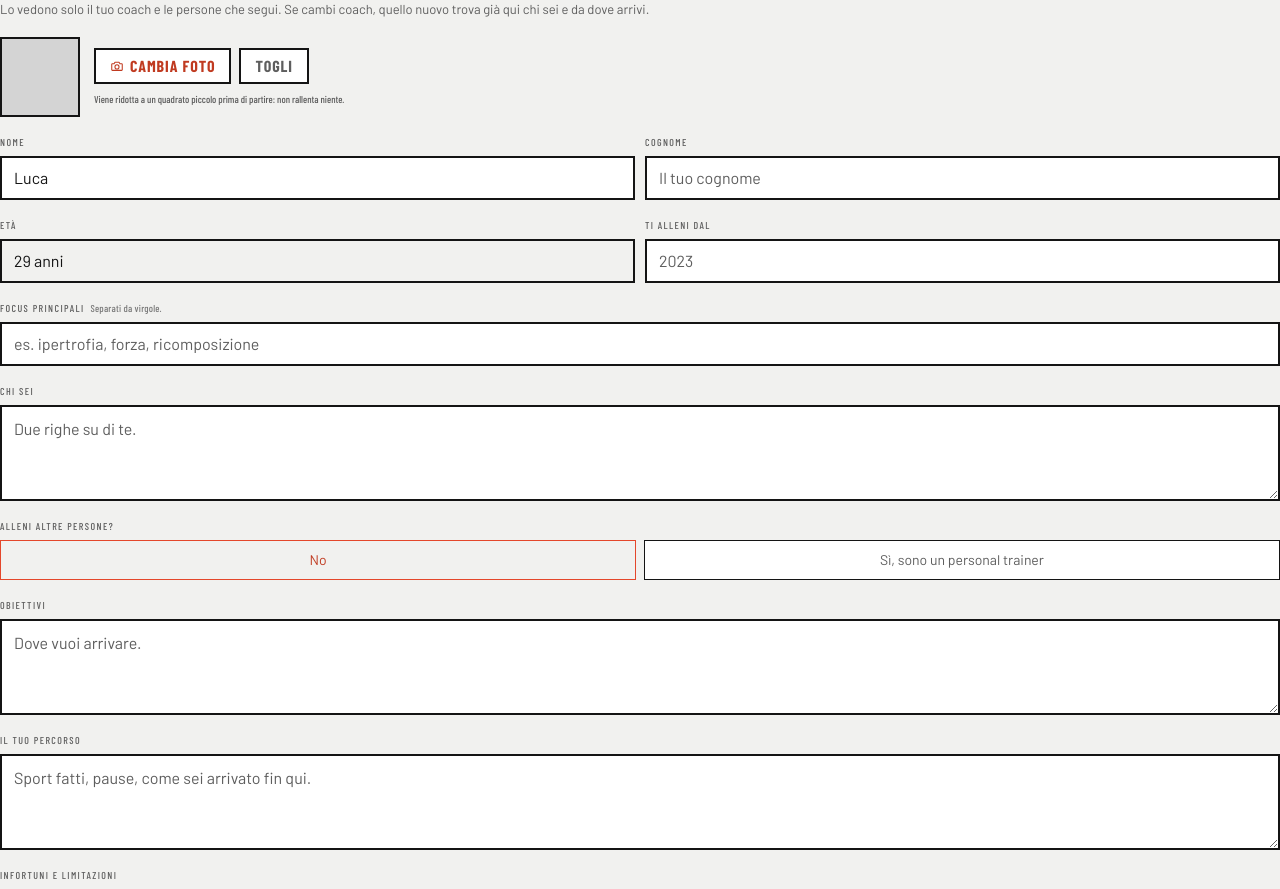
Test case: il profilo › «Togli» chiede prima di cancellare la foto dal server
Click the button "Togli" at [274, 66], box x1=240 y1=48 x2=309 y2=84
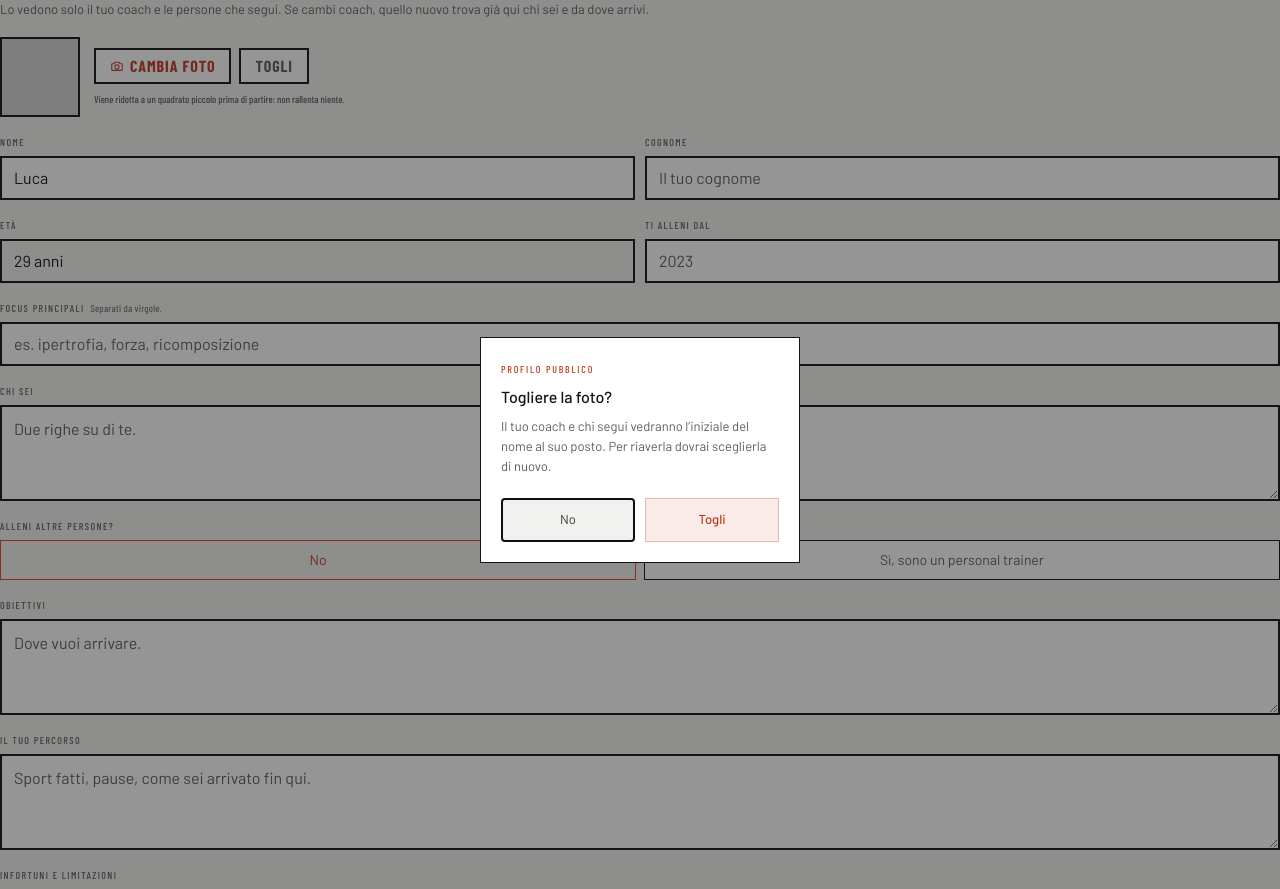
Check: the text "Togliere la foto?" is shown, box x1=501 y1=387 x2=612 y2=406
«No»: la foto resta, e al server non è partito niente.
Click the button "No" at [568, 520], box x1=501 y1=498 x2=635 y2=542
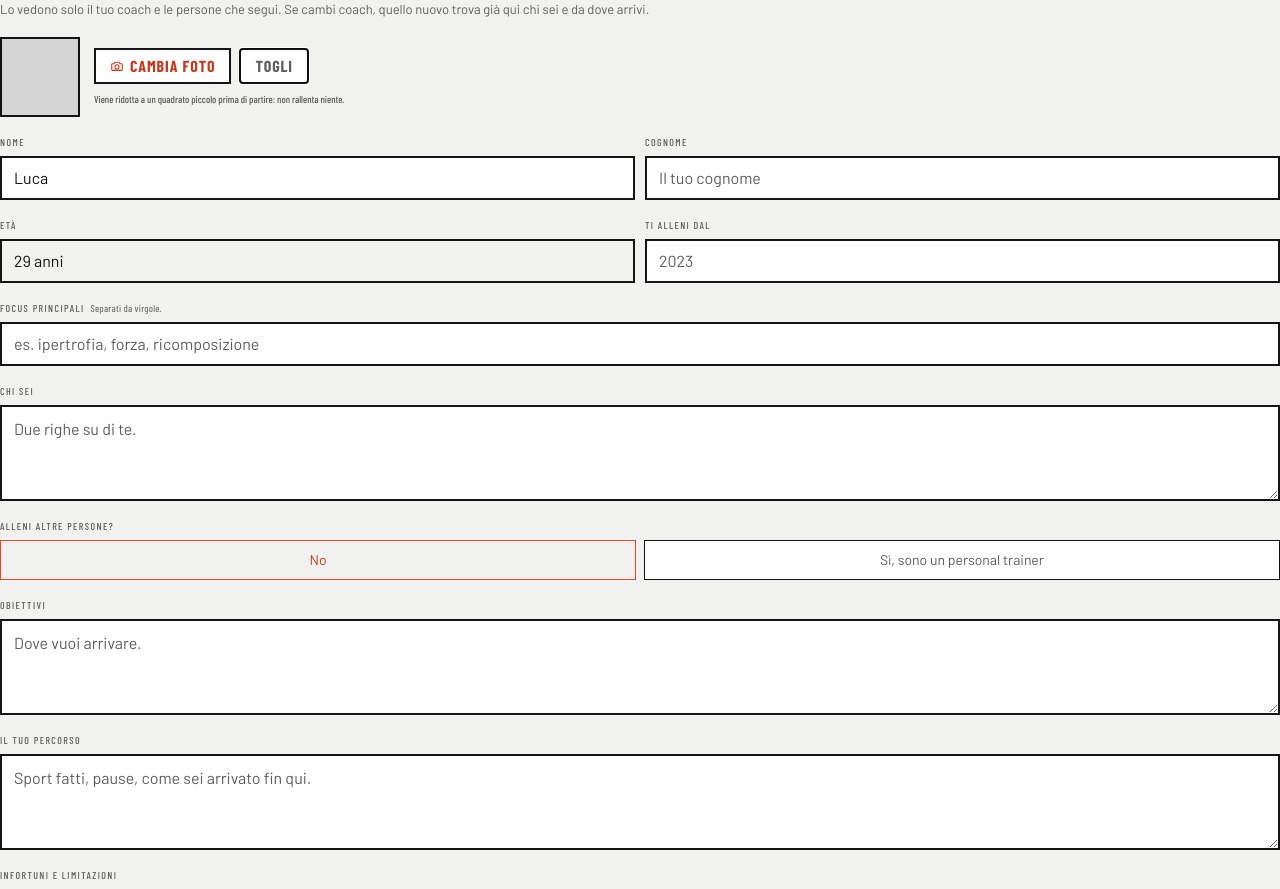
Click the button "Togli" at [274, 66], box x1=240 y1=48 x2=309 y2=84
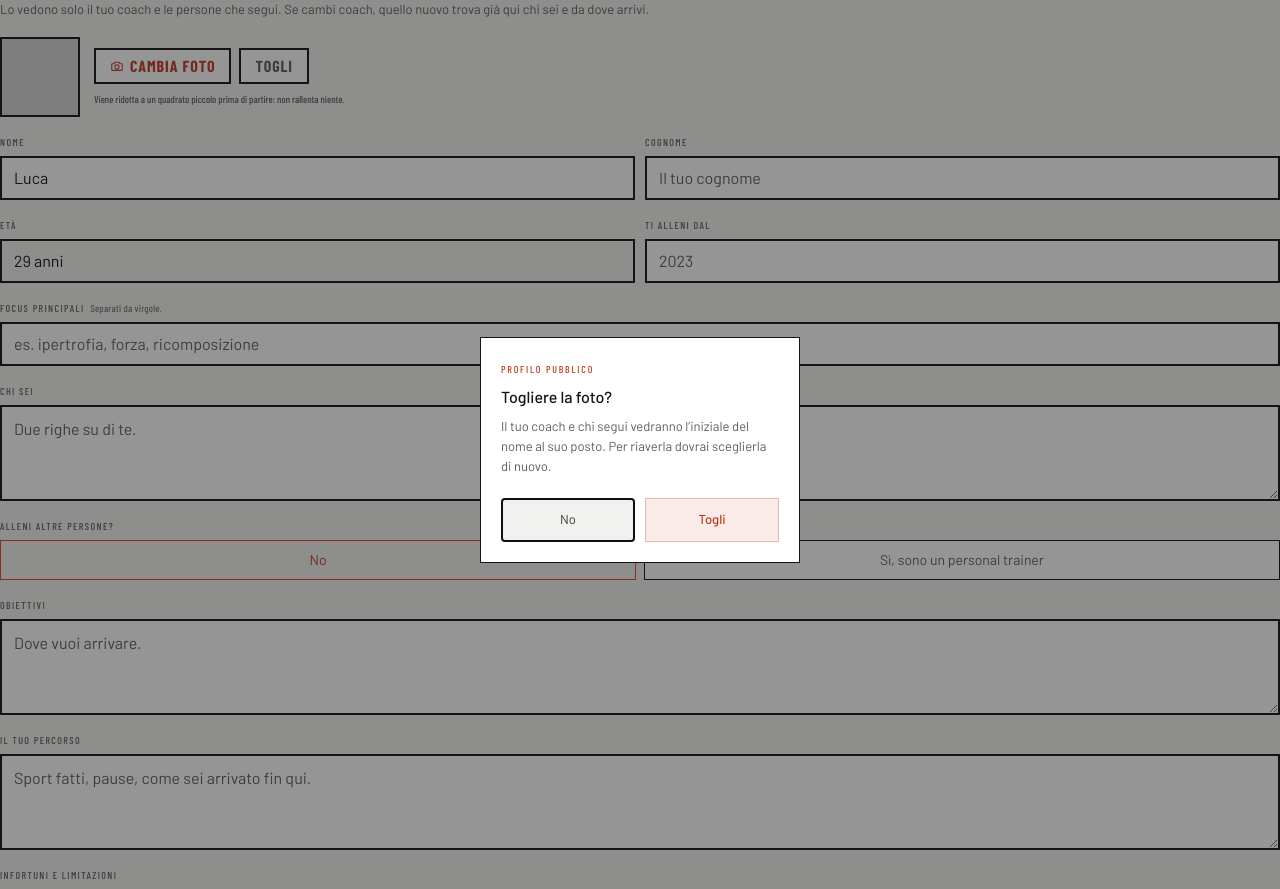
Click the button "Togli" at [712, 520], box x1=645 y1=498 x2=779 y2=542
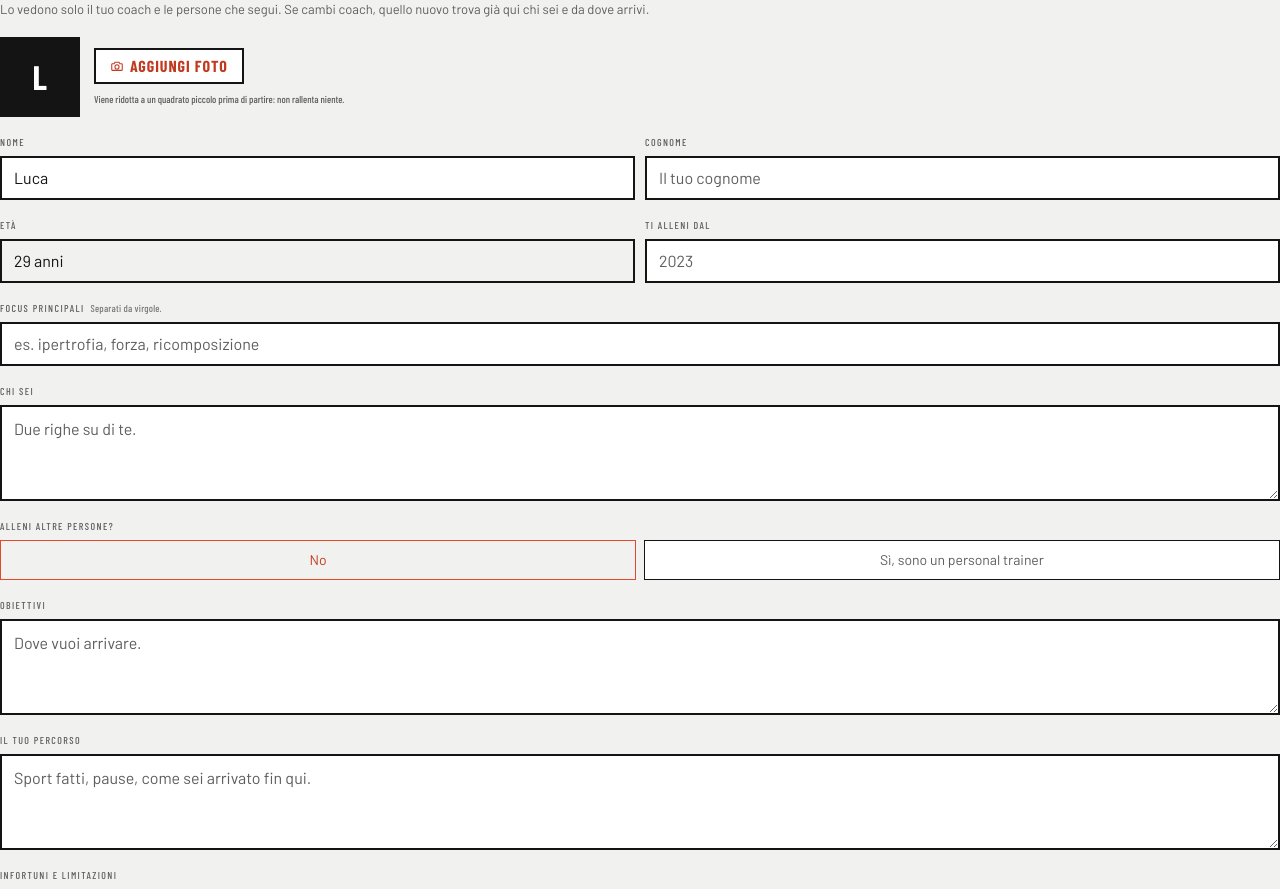
Check: the button "Togli" is gone
